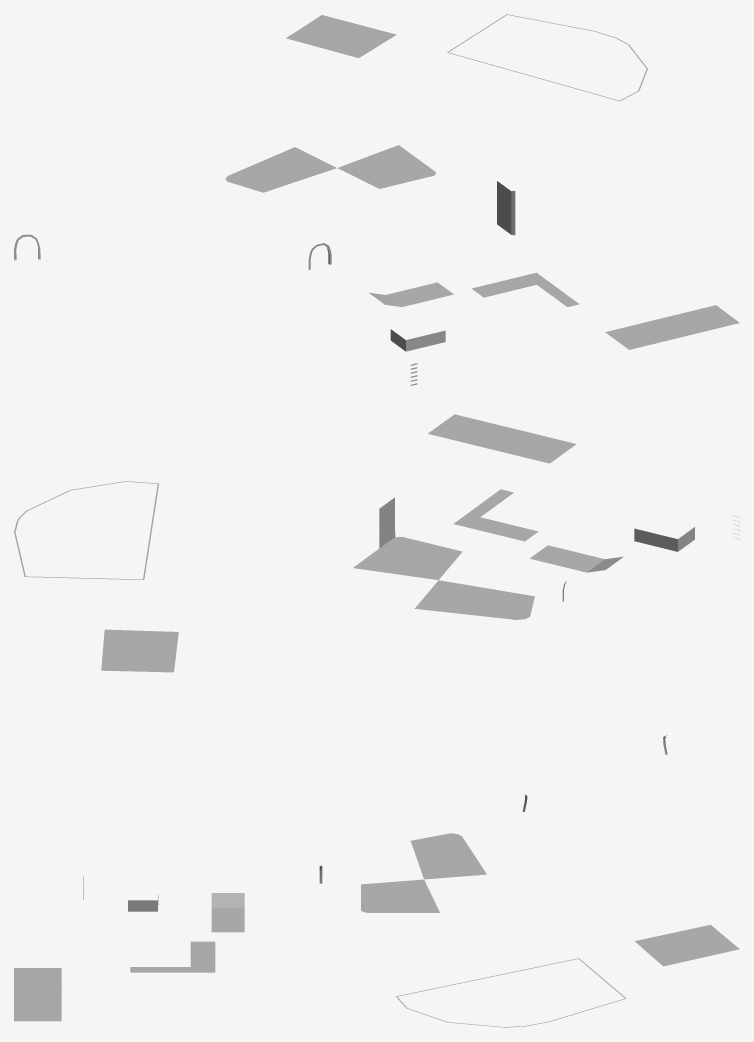
Rendered from kd_stage_1363c5_9_21.glb.
The picture shows the model from 3 angles, top to bottom: view 1: azimuth 30°, elevation 25°; view 2: azimuth 150°, elevation 25°; view 3: azimuth 270°, elevation 25°; orthographic projection. The views are drawn at different scales.
Visible parts, largest first — view 1: kd_stage_1363c5_9_21; view 2: kd_stage_1363c5_9_21; view 3: kd_stage_1363c5_9_21.
Part boxes in pixels (x1,y1,x2,y2): kd_stage_1363c5_9_21: (14, 14, 739, 385); kd_stage_1363c5_9_21: (14, 414, 739, 754); kd_stage_1363c5_9_21: (14, 794, 739, 1027).
Bounding box in the file's own units: 126 × 15.6 × 133.
1 material, 1 textured.
